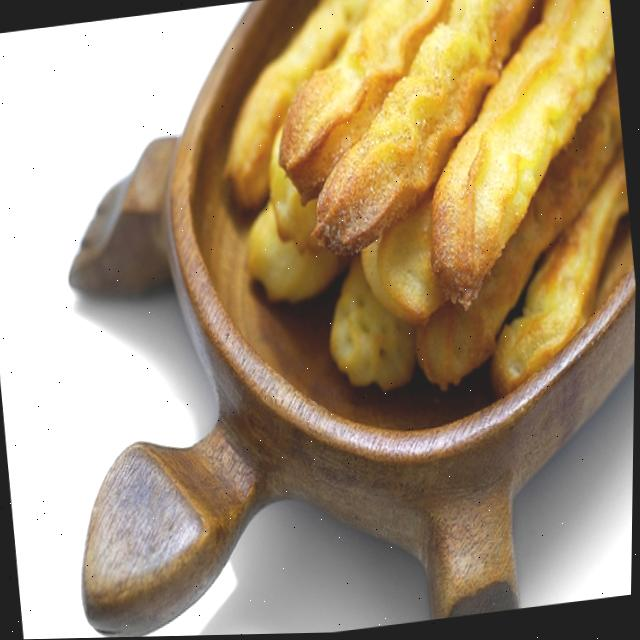炸货点心: (181, 0, 640, 429)
